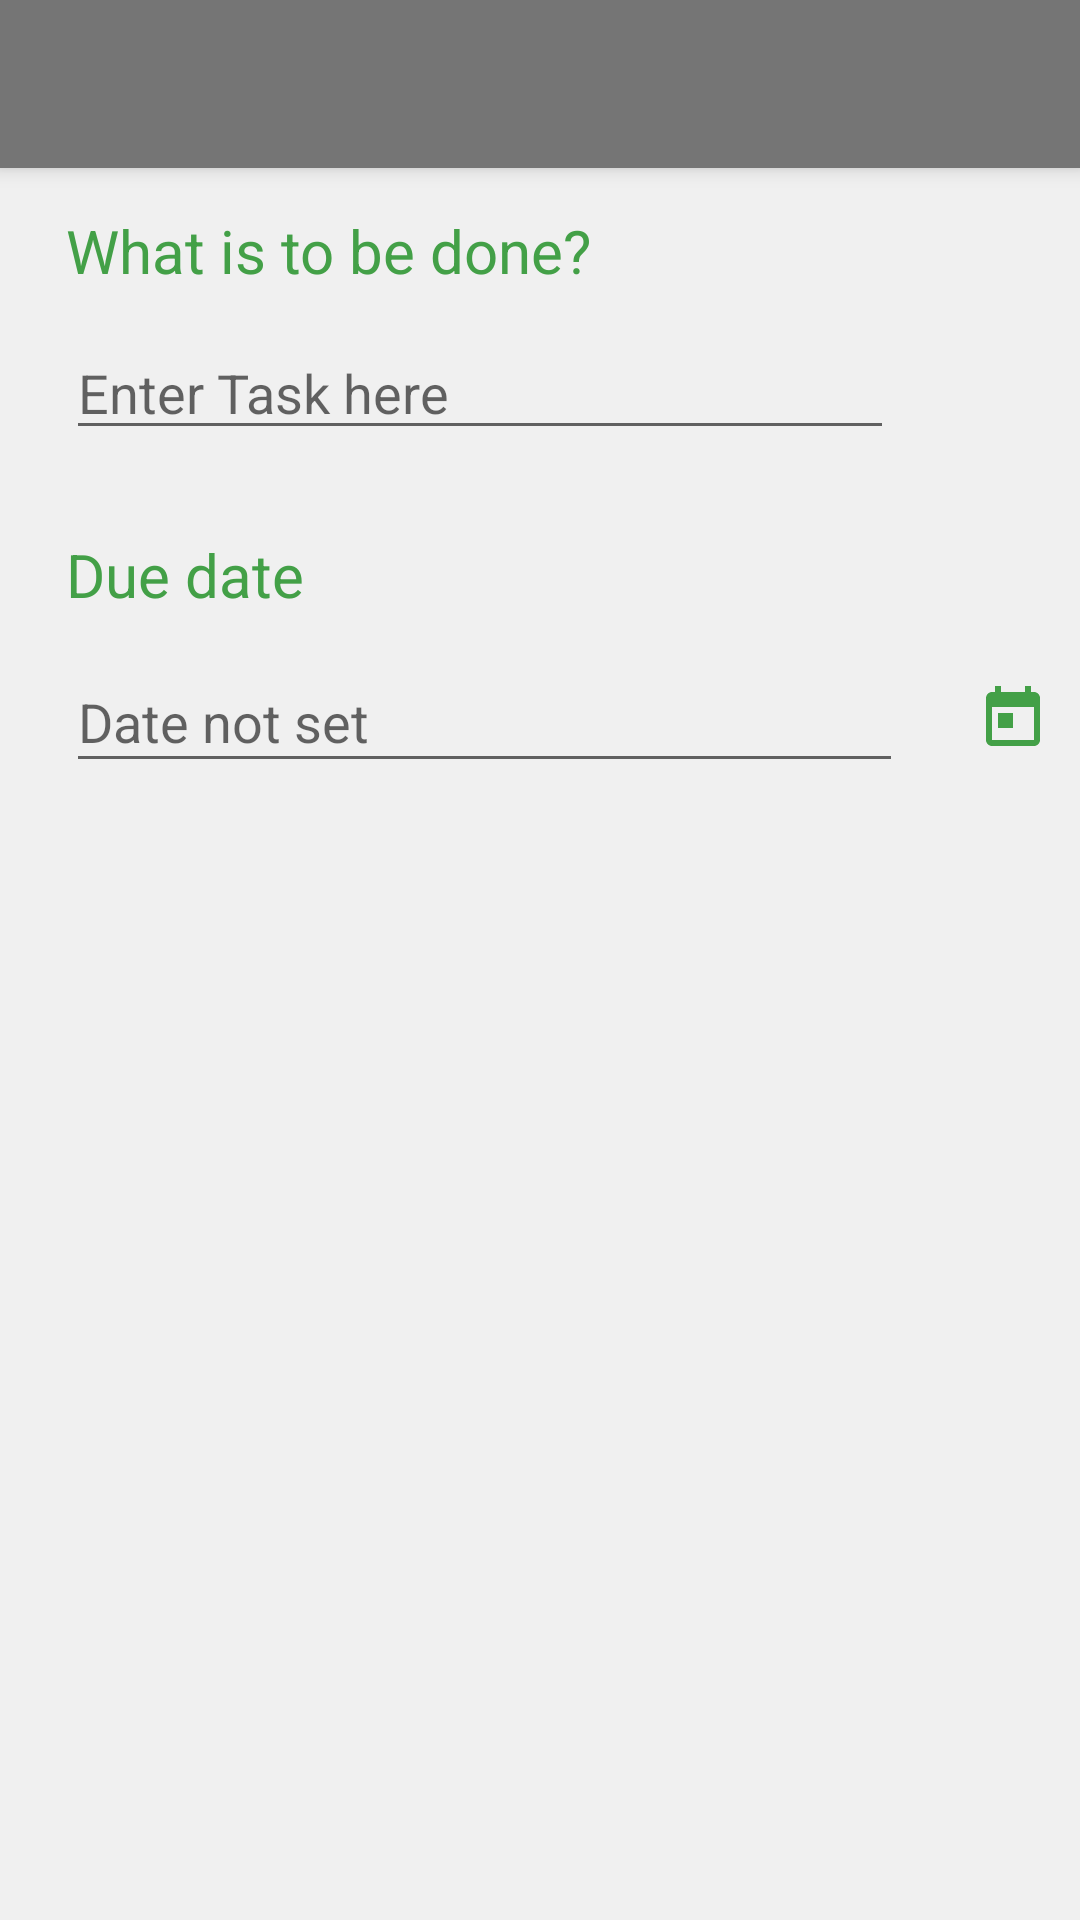

Screen size 1080*1920. Icon name, then its box in pixels as (x1, y1, x2, y2):
today: (986, 686, 1040, 746)
